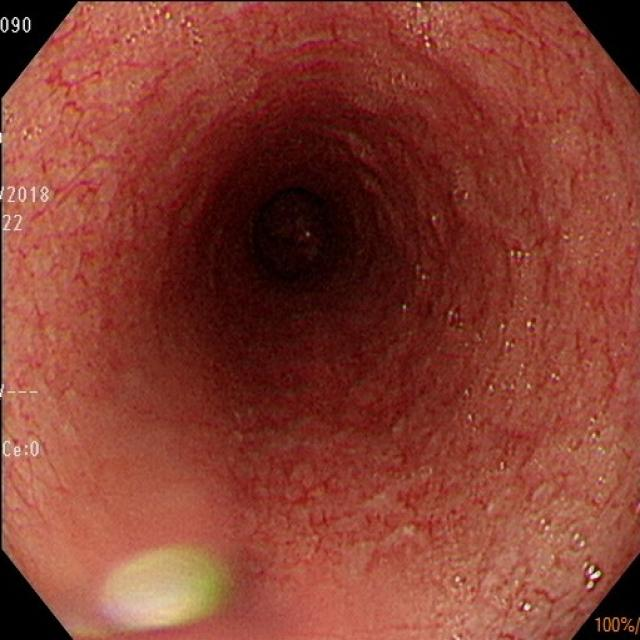A: (263, 394, 499, 556)
E: (249, 188, 344, 287)
S: (3, 185, 53, 206), (594, 615, 640, 635), (2, 383, 41, 403), (4, 441, 41, 461), (2, 206, 25, 235), (2, 15, 34, 35)
T: (511, 515, 603, 616), (397, 2, 463, 55)
U: (98, 545, 232, 637)
